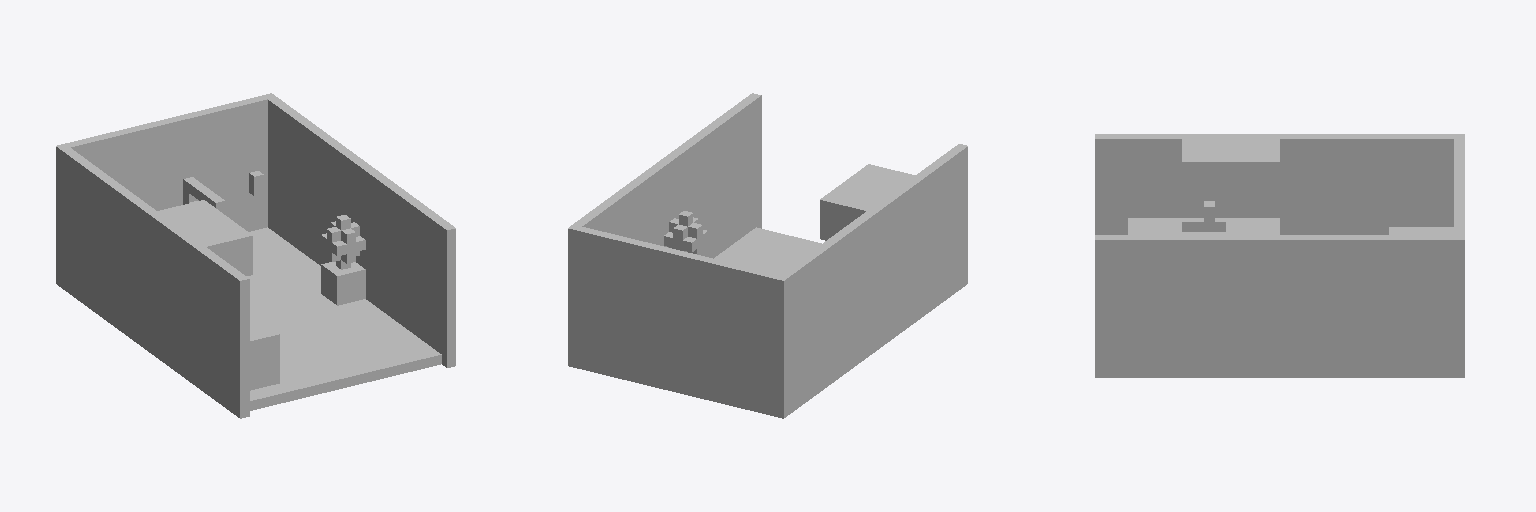
File: House_Interior.obj
3 renders of one model, left to right at view 1: azimuth 30°, elevation 25°; view 2: azimuth 150°, elevation 25°; view 3: azimuth 270°, elevation 25°, orthographic.
Visible parts, largest first — view 1: House_Interior; view 2: House_Interior; view 3: House_Interior.
Boxes of the visible parts, box(x1,y1,x2,y2) form: House_Interior: box(56, 93, 455, 418); House_Interior: box(568, 93, 967, 418); House_Interior: box(1095, 134, 1464, 377).
Size of the model in its own units: 23 by 14 by 34.